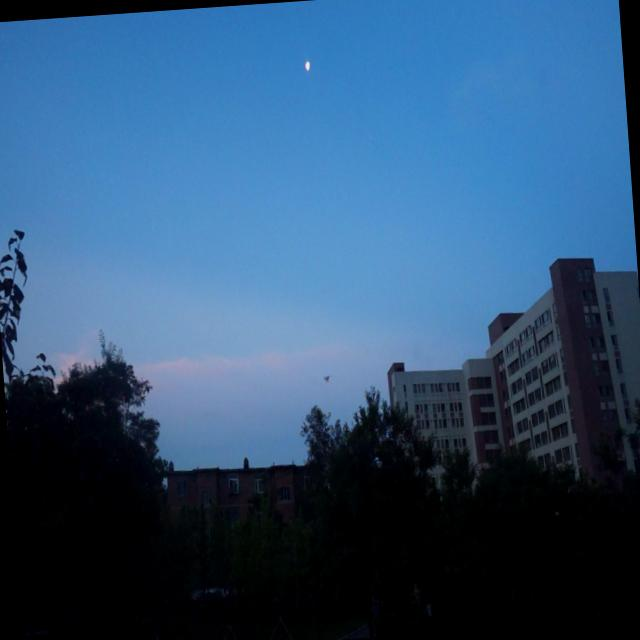drone: (320, 367, 334, 388)
